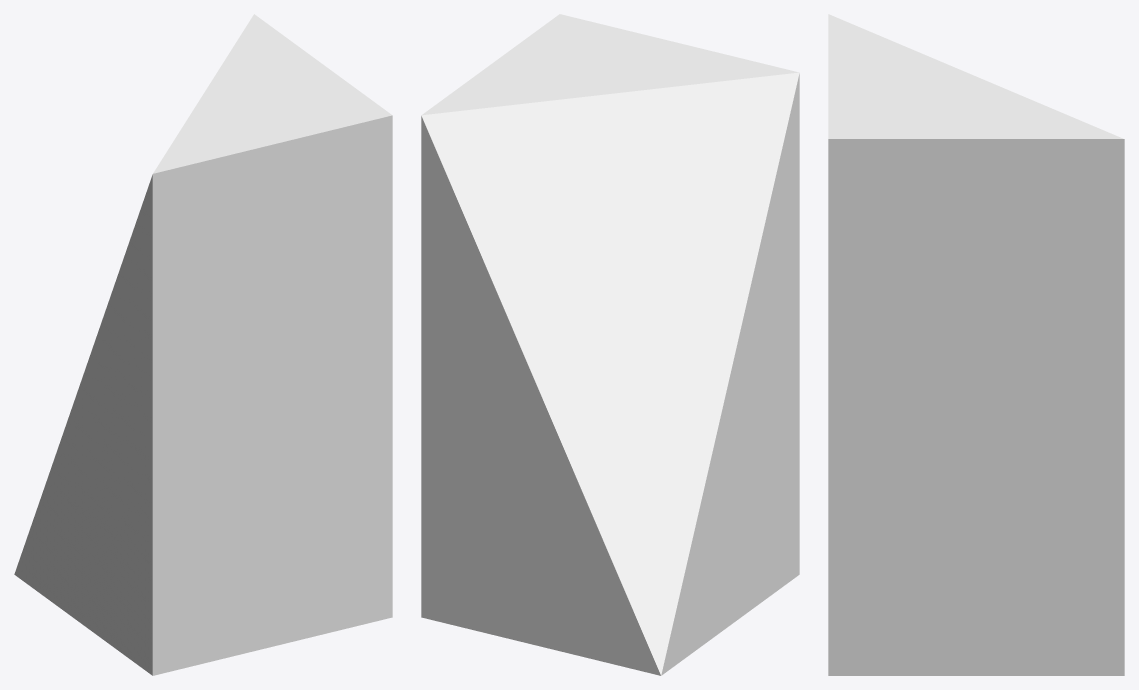
The model's file is Pol_QieJianLiFangTi_FG_1X2_off.FBX.
The picture shows the model from 3 angles, left to right: view 1: azimuth 30°, elevation 25°; view 2: azimuth 150°, elevation 25°; view 3: azimuth 270°, elevation 25°; orthographic projection. The views are drawn at different scales.
Visible parts, largest first — view 1: Box004; view 2: Box004; view 3: Box004.
Boxes of the visible parts, x1=… form: Box004: x1=14, y1=14, x2=392, y2=675; Box004: x1=421, y1=14, x2=799, y2=675; Box004: x1=828, y1=14, x2=1124, y2=675.
Bounding box in the file's own units: 1 × 2 × 1.
